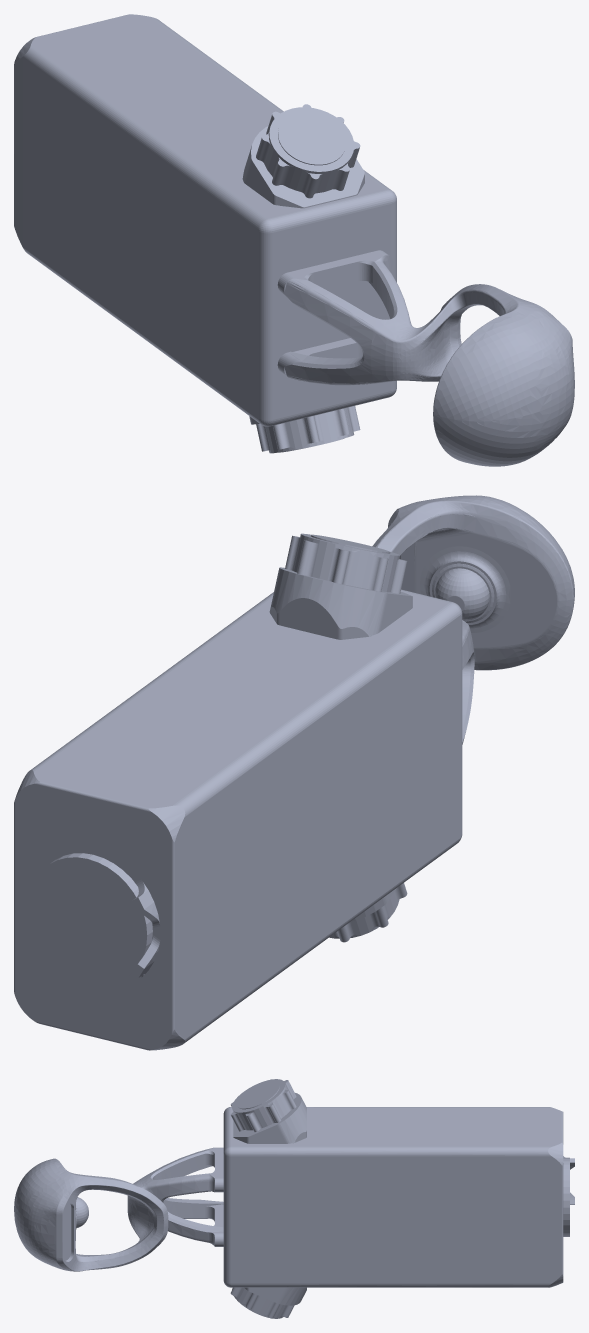
Rendered from torso_link.obj.
3 views of the same model, one above another, from view 1: azimuth 30°, elevation 25°; view 2: azimuth 150°, elevation 25°; view 3: azimuth 270°, elevation 25° (orthographic). The views are drawn at different scales.
Parts seen in each view (by area): view 1: torso_link_006-mesh; view 2: torso_link_006-mesh; view 3: torso_link_006-mesh.
Boxes of the visible parts, left/top/right/bottom form: torso_link_006-mesh: left=14, top=14, right=574, bottom=466; torso_link_006-mesh: left=14, top=495, right=574, bottom=1050; torso_link_006-mesh: left=14, top=1079, right=574, bottom=1318.
Bounding box in the file's own units: 0.1982 × 0.3429 × 0.7618.
